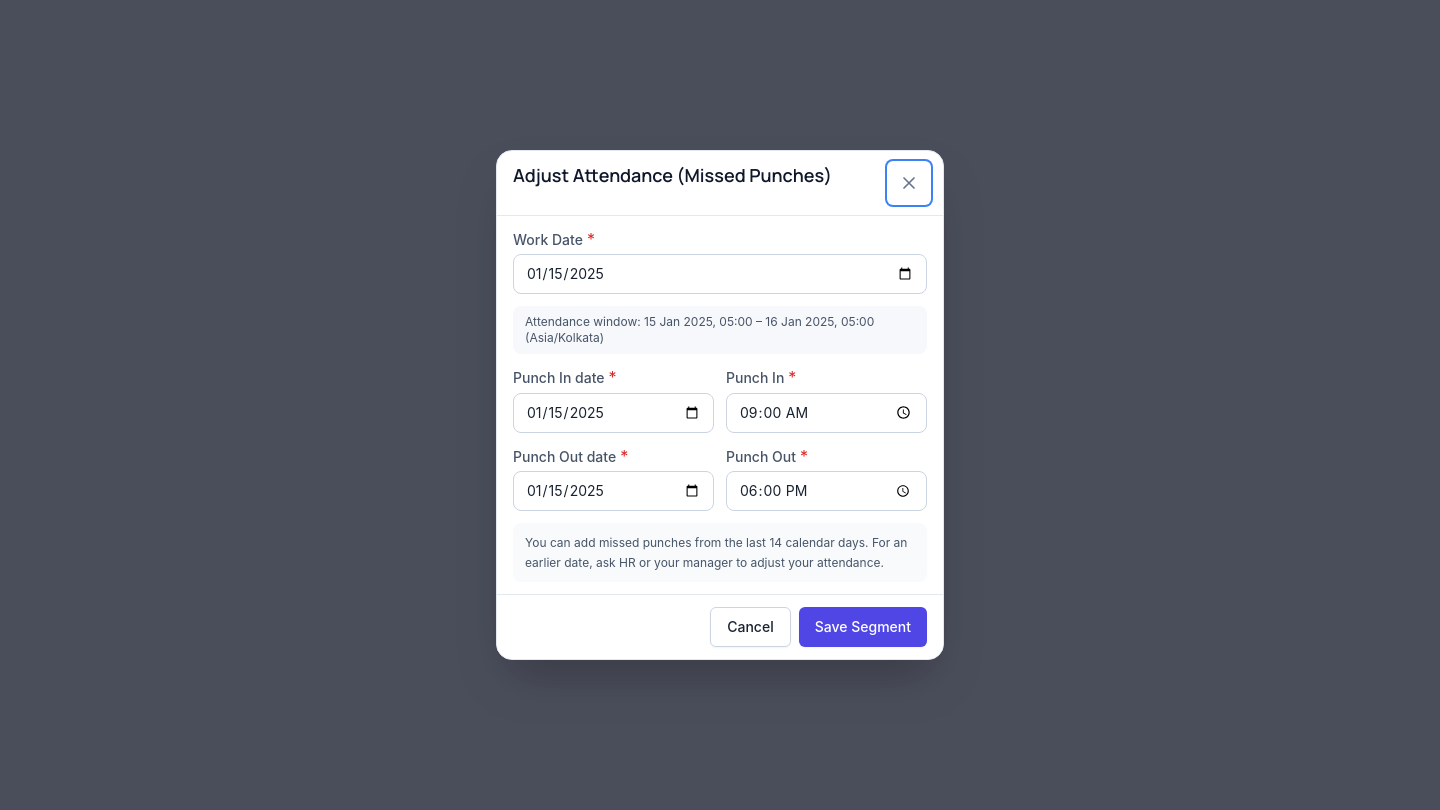
Scenario: ManualAttendanceModal › associates invalid punch order with Punch Out and focuses that field
The width and height of the screenshot is (1440, 810).
expect the text "Attendance window:" is shown: met, box x1=525 y1=314 x2=644 y2=329
Replace the text in the time field labelled "Punch In" with "18:00" at {"x": 826, "y": 413}, box x1=726 y1=393 x2=927 y2=433
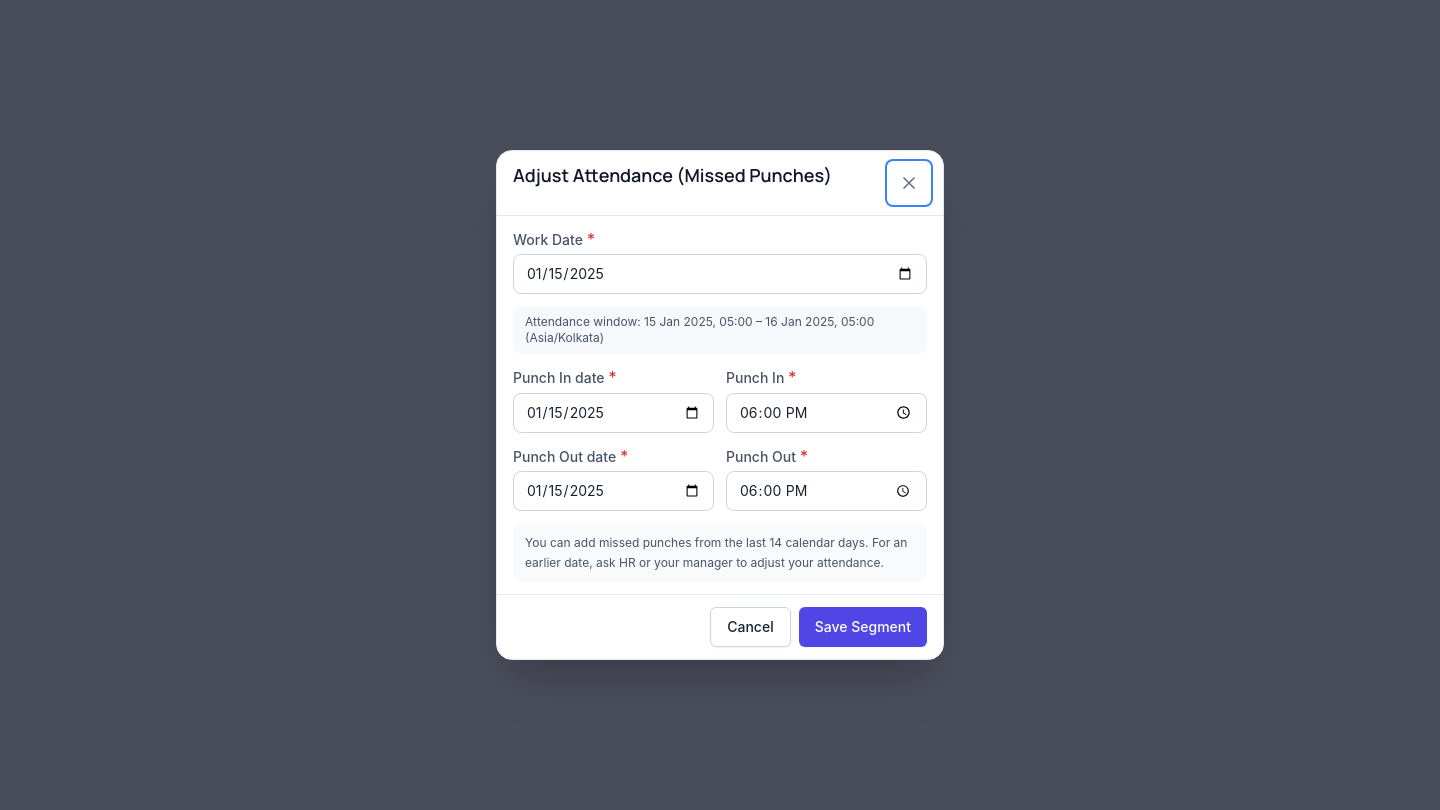
Replace the text in the time field labelled "Punch Out" with "09:00" at {"x": 826, "y": 491}, box x1=726 y1=471 x2=927 y2=511
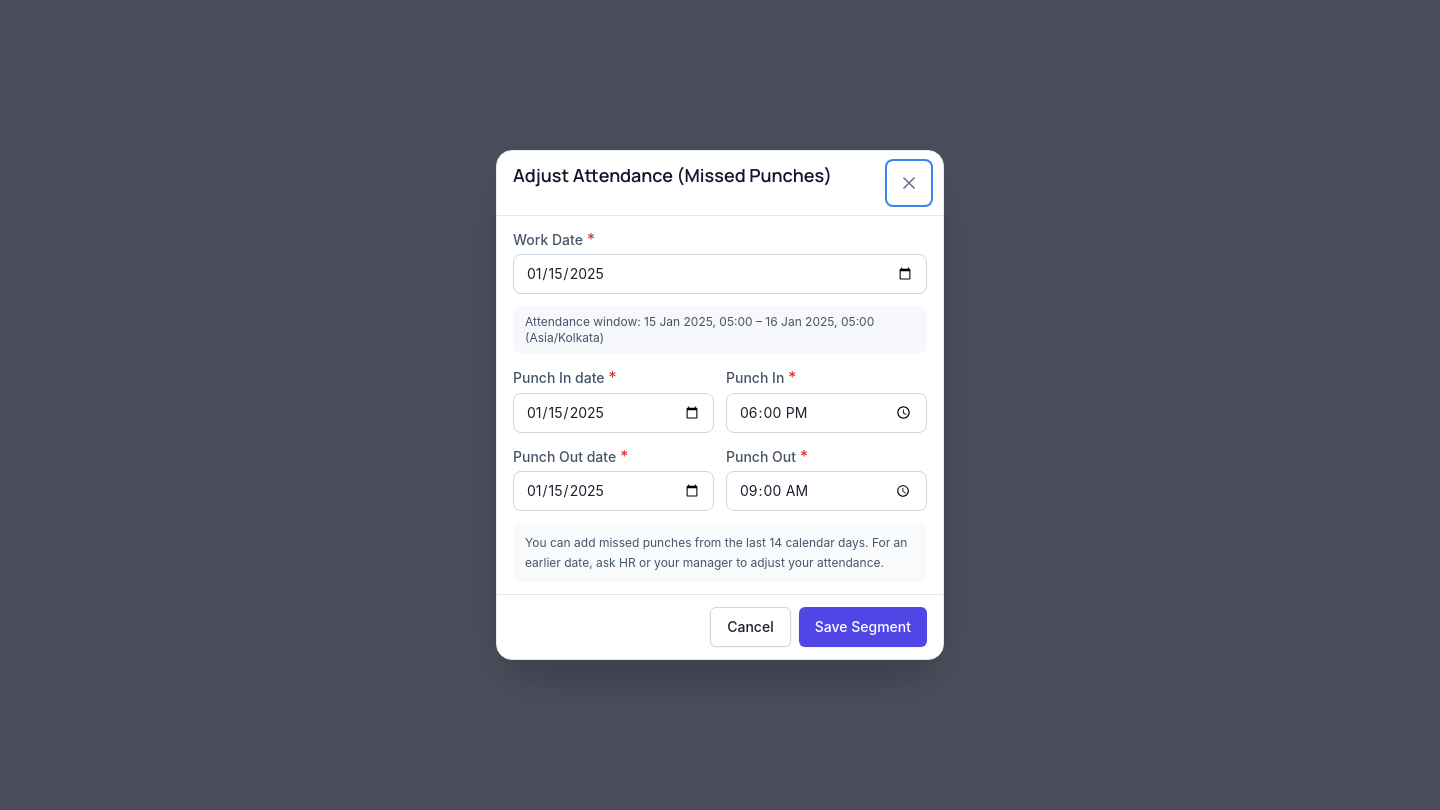
Click the button "Save Segment" at {"x": 863, "y": 627}, box x1=799 y1=607 x2=927 y2=647
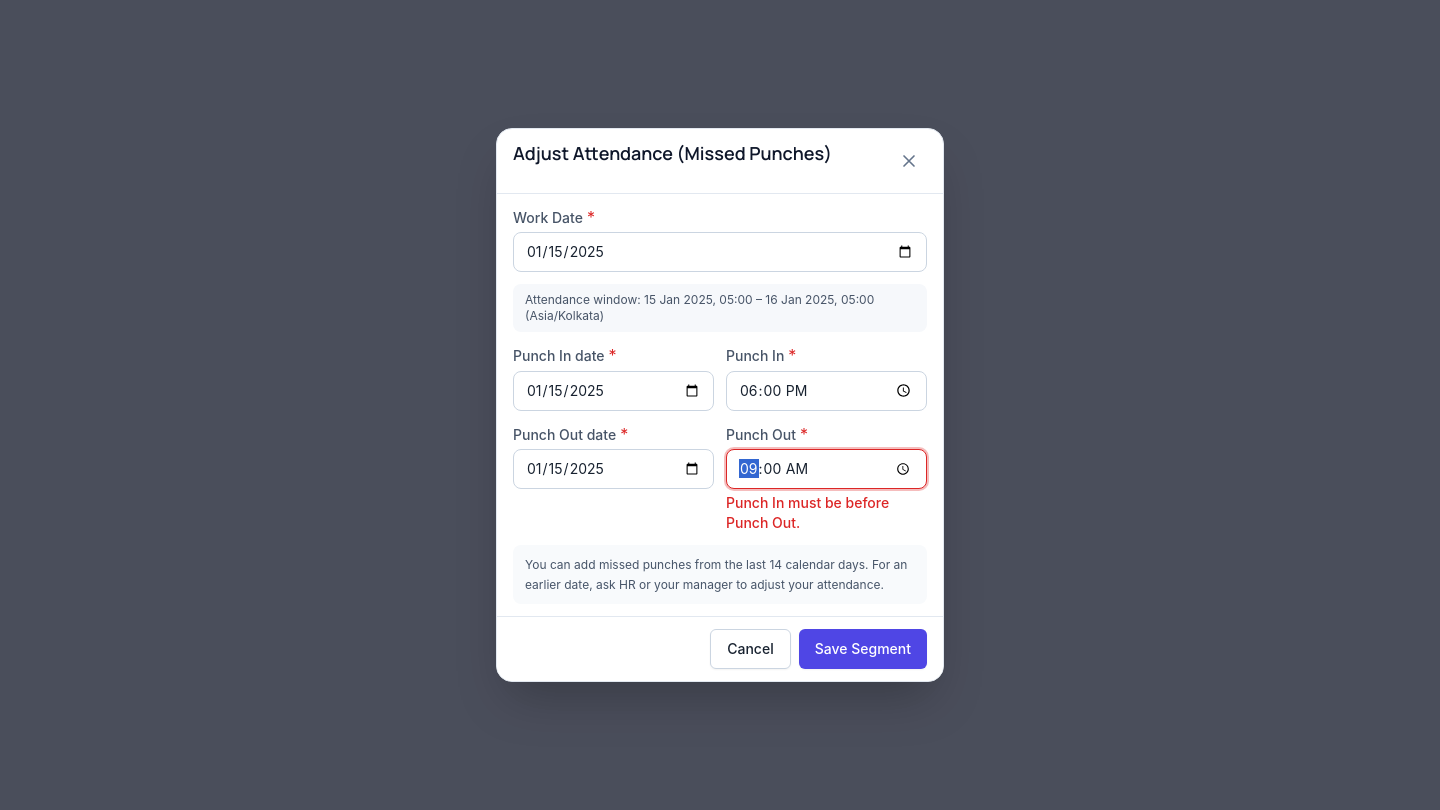
expect the text "Punch In must be before Punch Out." is shown: met, box x1=726 y1=494 x2=889 y2=531
